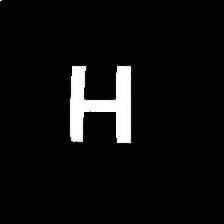LTR_H: (57, 51, 134, 153)
